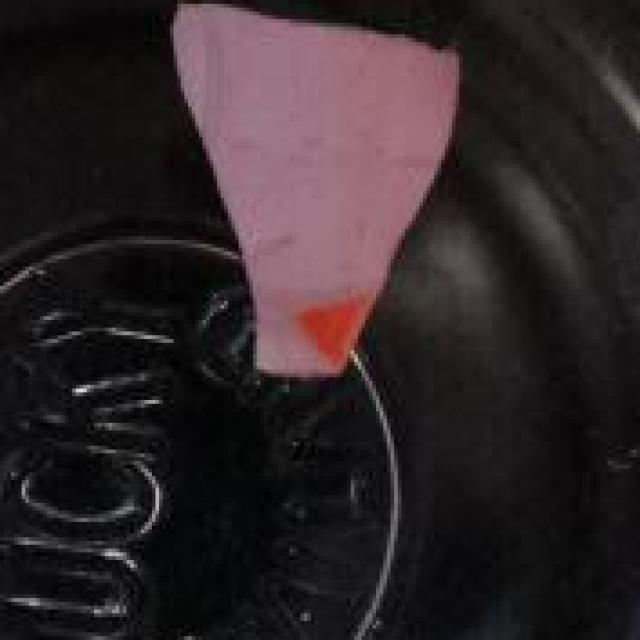Microplastic: (141, 0, 477, 404)
